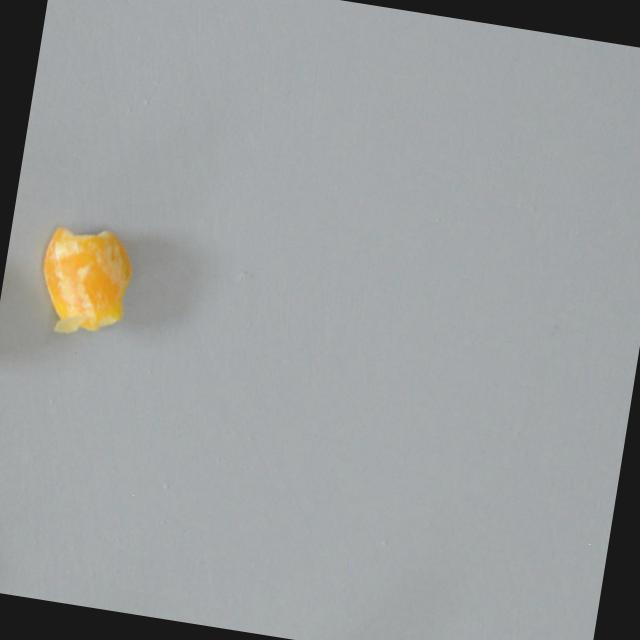pelicula: (32, 220, 142, 345)
